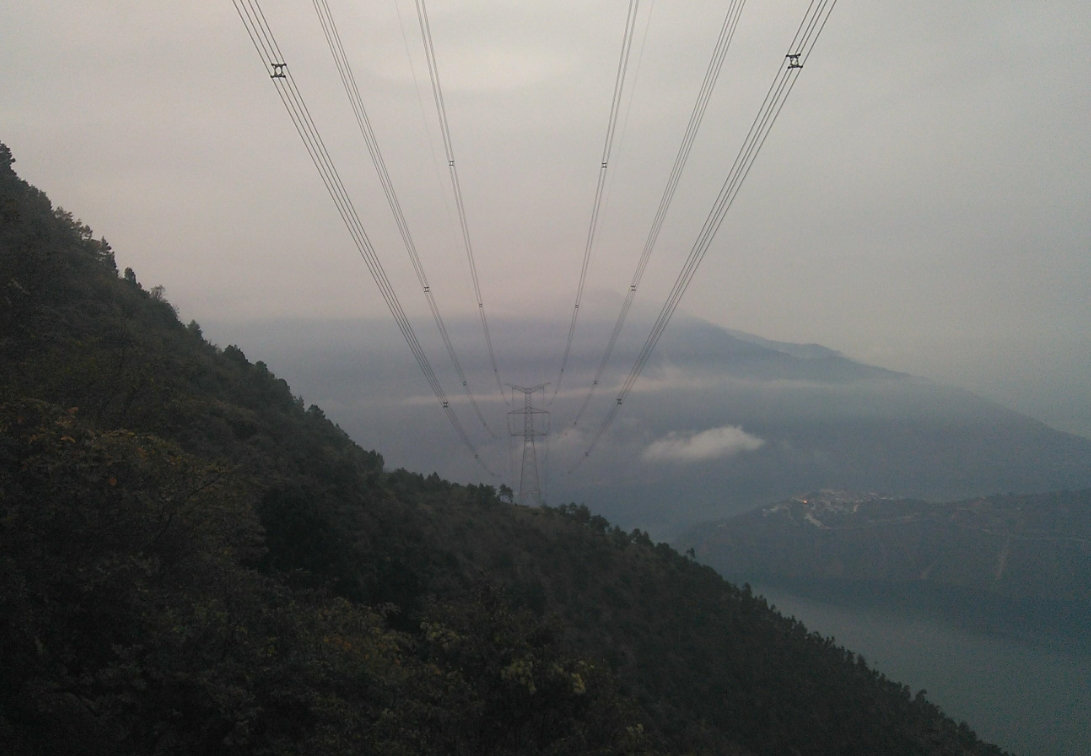山间云雾: (200, 304, 1091, 478)
